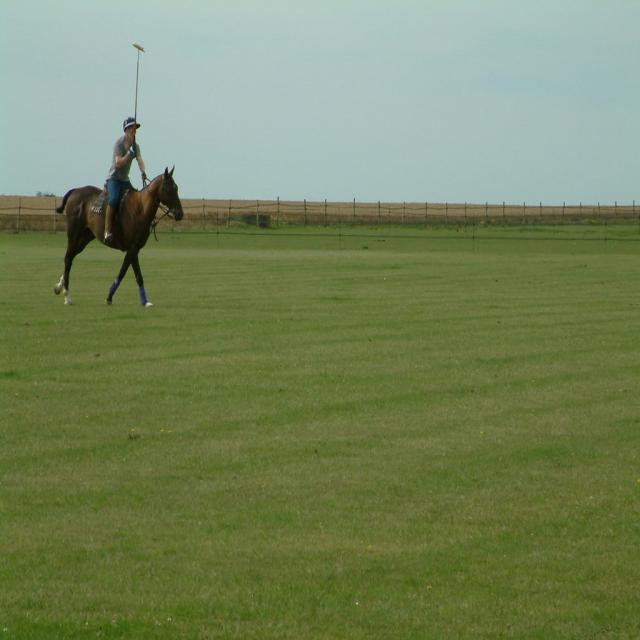Horse: (54, 164, 183, 308)
